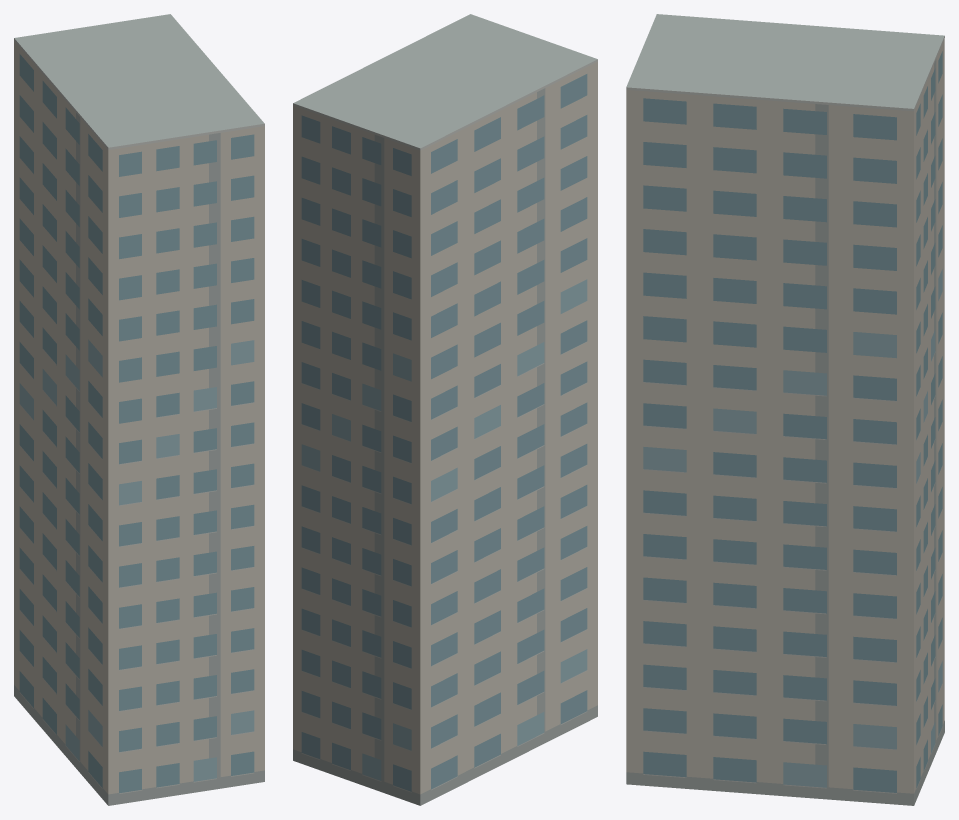
Rendered from residential-ced61807-b554-43ab-893d-eebad8433c4d.glb.
The picture shows the model from 3 angles, left to right: view 1: azimuth 30°, elevation 25°; view 2: azimuth 150°, elevation 25°; view 3: azimuth 270°, elevation 25°; orthographic projection. The views are drawn at different scales.
Visible parts, largest first — view 1: residential-ced61807-b554-43ab-893d-eebad8433c4d.tmp; view 2: residential-ced61807-b554-43ab-893d-eebad8433c4d.tmp; view 3: residential-ced61807-b554-43ab-893d-eebad8433c4d.tmp.
Part boxes in pixels (box(x1,y1,x2,y2)): residential-ced61807-b554-43ab-893d-eebad8433c4d.tmp: box(14, 14, 264, 805); residential-ced61807-b554-43ab-893d-eebad8433c4d.tmp: box(293, 14, 597, 805); residential-ced61807-b554-43ab-893d-eebad8433c4d.tmp: box(626, 14, 944, 805).
Bounding box in the file's own units: 20.17 × 69 × 28.6.
